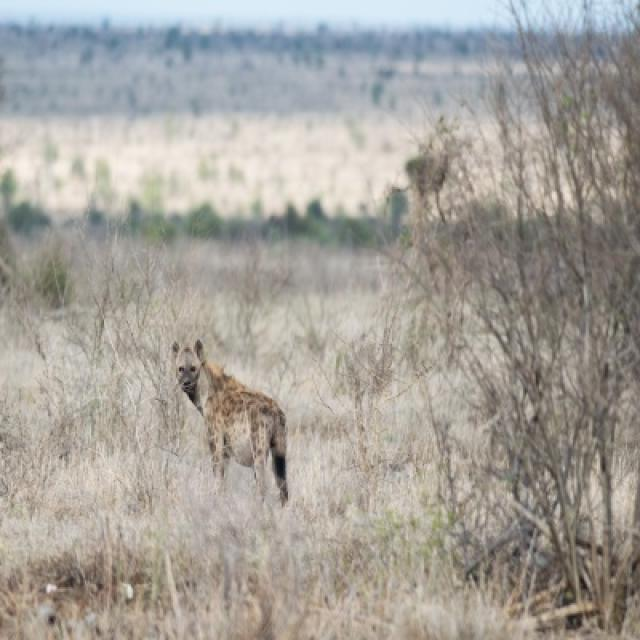hyena: (176, 344, 288, 504)
